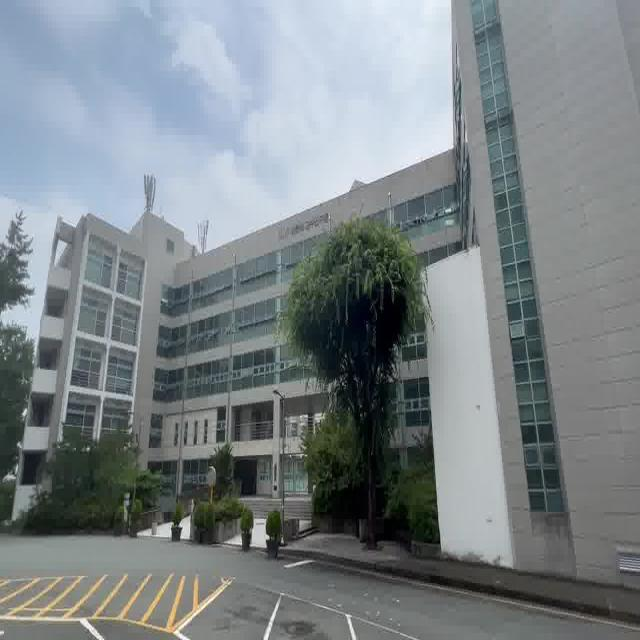building: (39, 163, 294, 459)
